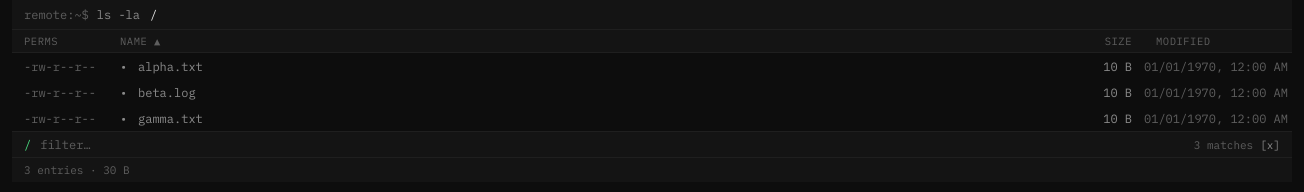
Scenario: FilePane filter bar › narrows the rendered rows as the query changes
Expected: the text "beta.log" is shown, [138, 84, 196, 100]
Type "txt" into the field named "Filter remote rows". click: (612, 144)
box: [38, 136, 1187, 153]
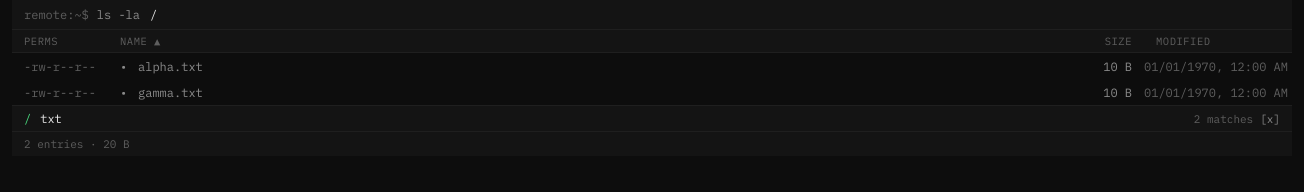
Expected: the text "alpha.txt" is shown, [138, 58, 203, 74]
Expected: the button "beta.log" is gone
